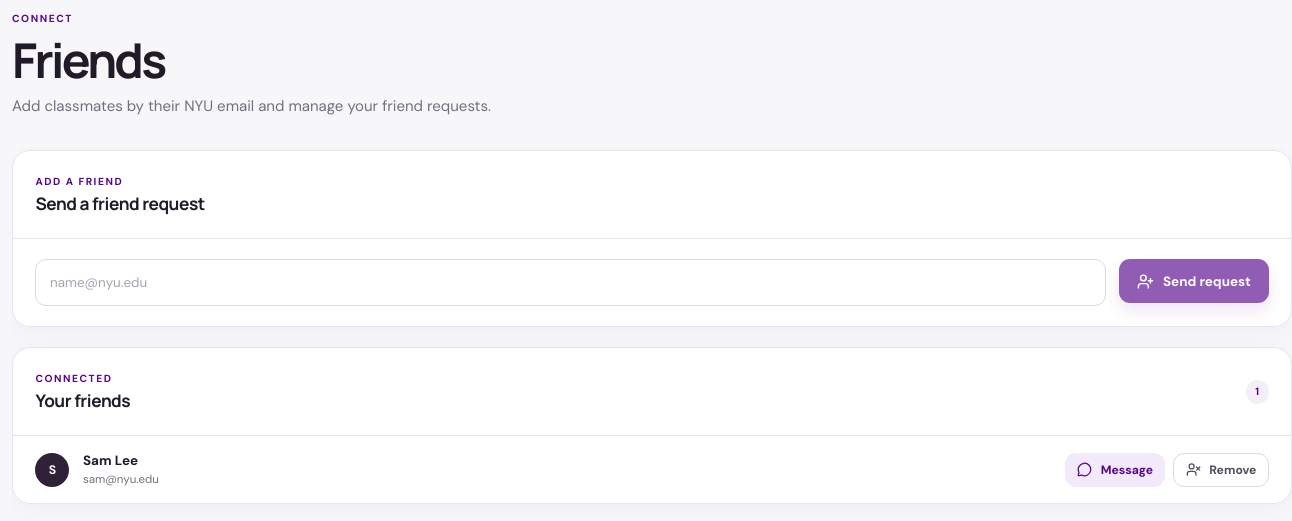
Test: removing a friend › a failed removal shows an error and keeps the friend in the list
This screenshot has width=1292, height=521.
Expected: the text "Sam Lee" is shown, x1=83 y1=452 x2=138 y2=470
Click the button with aria-label "remove sam lee as a friend" at (1221, 470), box x1=1173 y1=453 x2=1269 y2=487
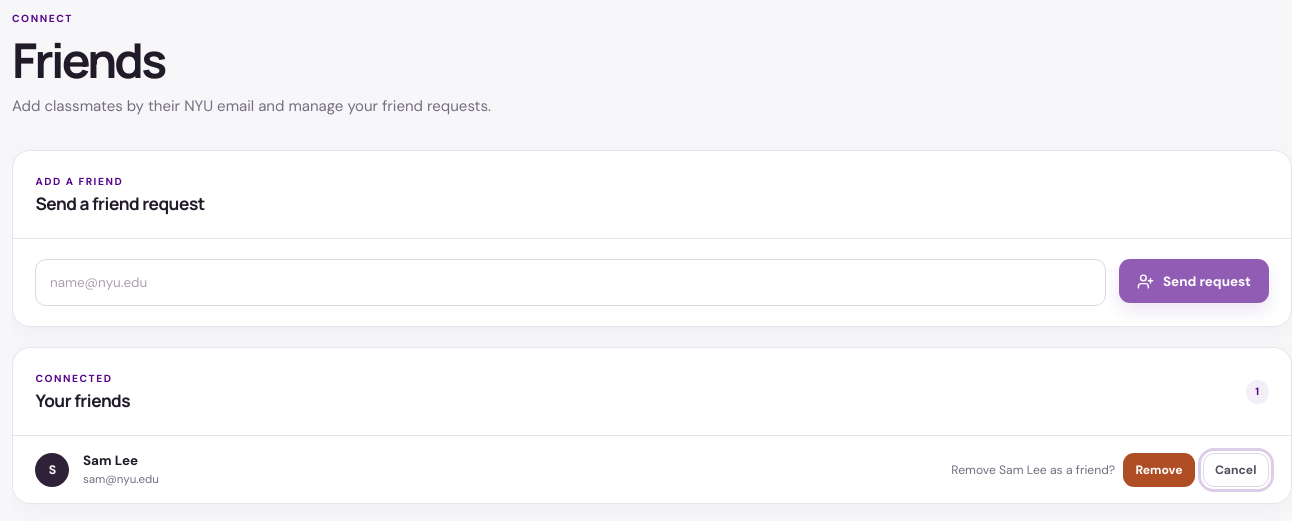
Click the button "Remove" at (1159, 470), box x1=1123 y1=453 x2=1195 y2=487
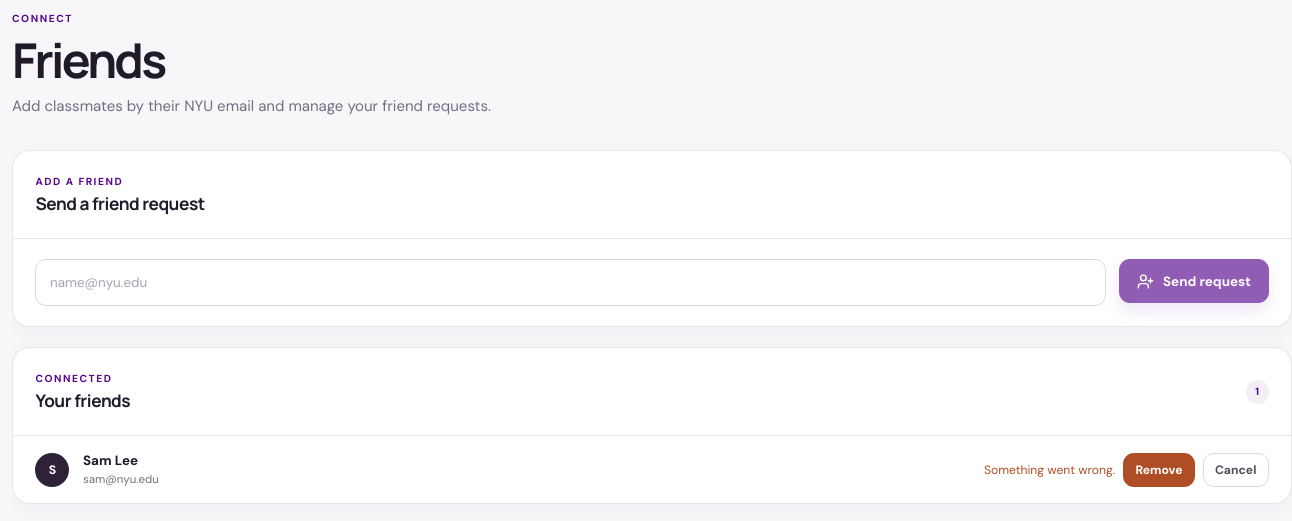
Expected: the text "Sam Lee" is shown, x1=83 y1=452 x2=138 y2=470
Expected: the text "Something went wrong." is shown, x1=984 y1=462 x2=1115 y2=478
